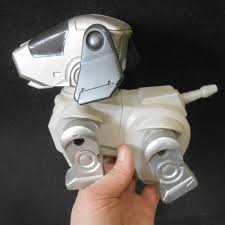cell phone: (10, 19, 138, 97)
person: (13, 11, 210, 211), (37, 76, 196, 216), (59, 136, 163, 224)
remote: (16, 11, 192, 106), (77, 86, 199, 200), (59, 55, 125, 190), (63, 132, 143, 204), (52, 91, 108, 193), (72, 19, 131, 103)
